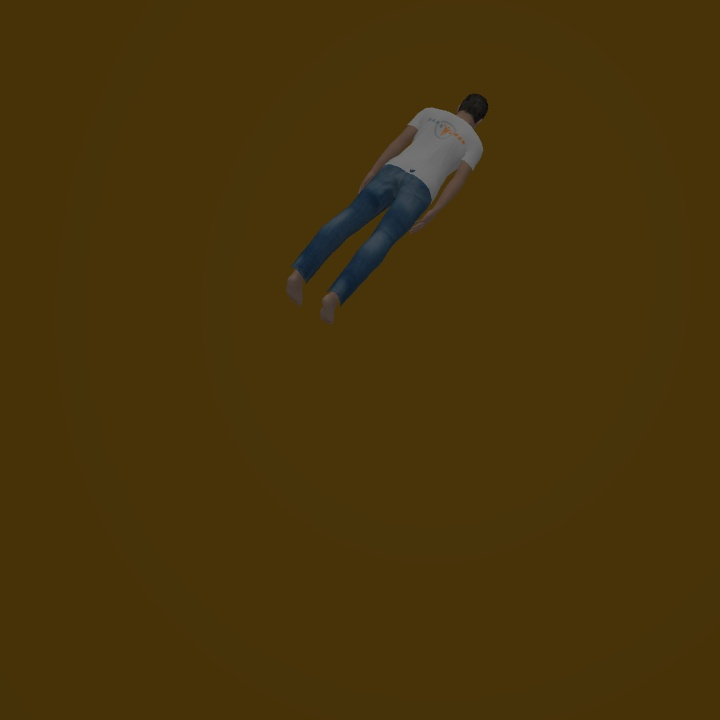victim: (281, 89, 490, 324)
